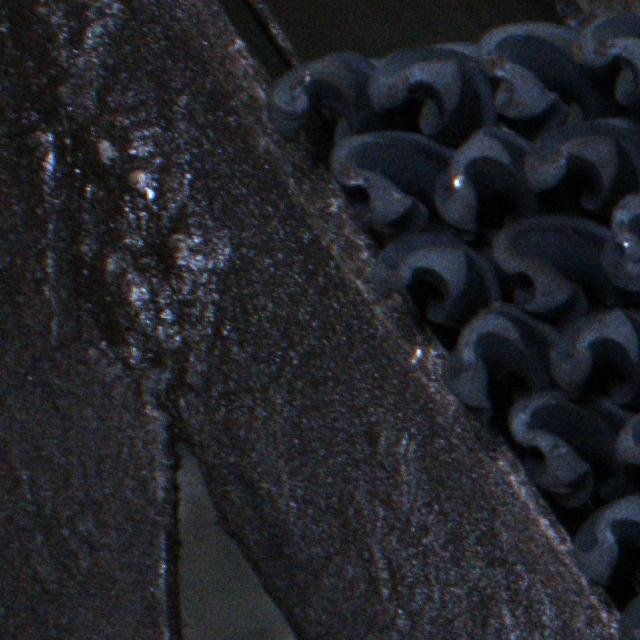tool_b: (508, 390, 634, 507), (442, 301, 557, 425), (479, 22, 606, 129), (330, 131, 454, 236), (490, 212, 610, 320), (433, 125, 540, 244), (366, 42, 496, 139), (369, 235, 500, 328), (266, 51, 384, 149), (522, 116, 640, 210), (549, 304, 640, 406), (573, 492, 640, 597), (570, 12, 640, 108)
